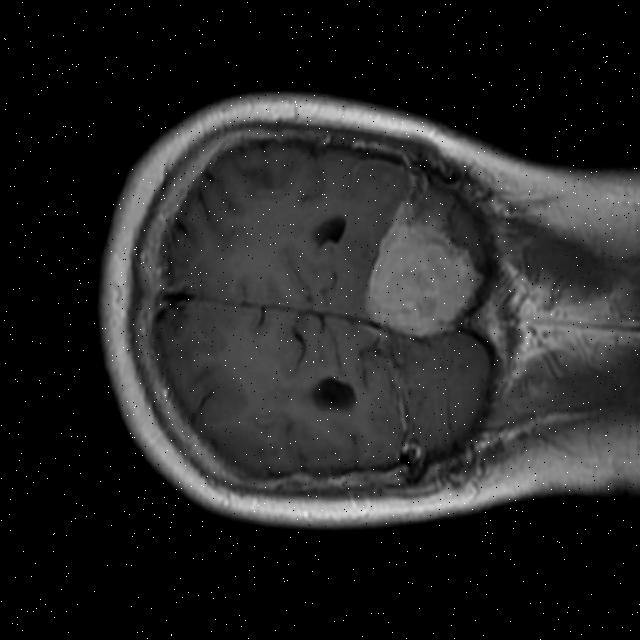Meningioma: (348, 190, 503, 353)
